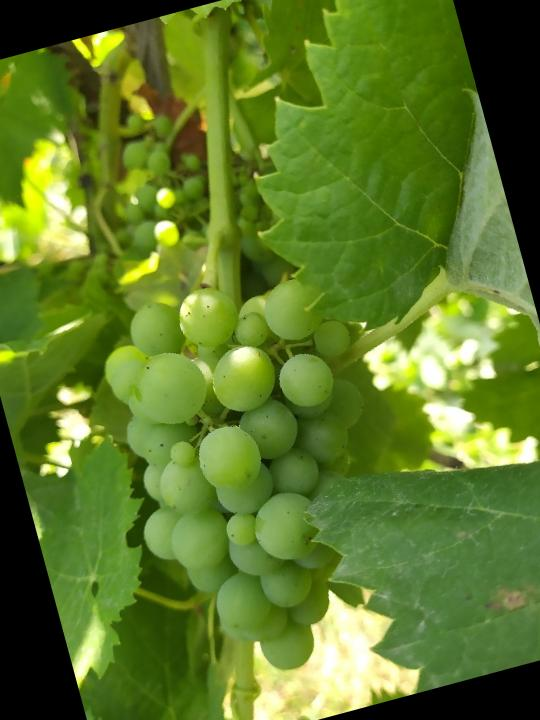grape: (81, 251, 428, 701)
